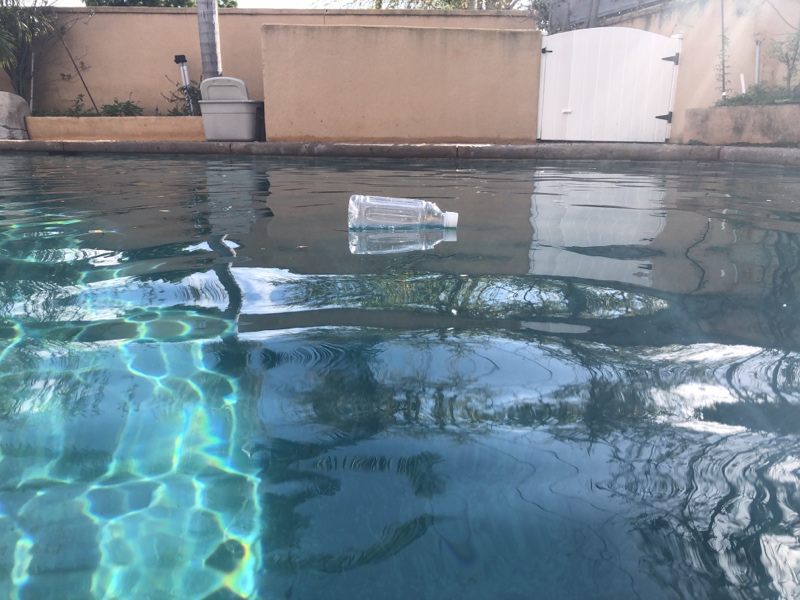Plastic Bottle: (344, 189, 464, 235)
